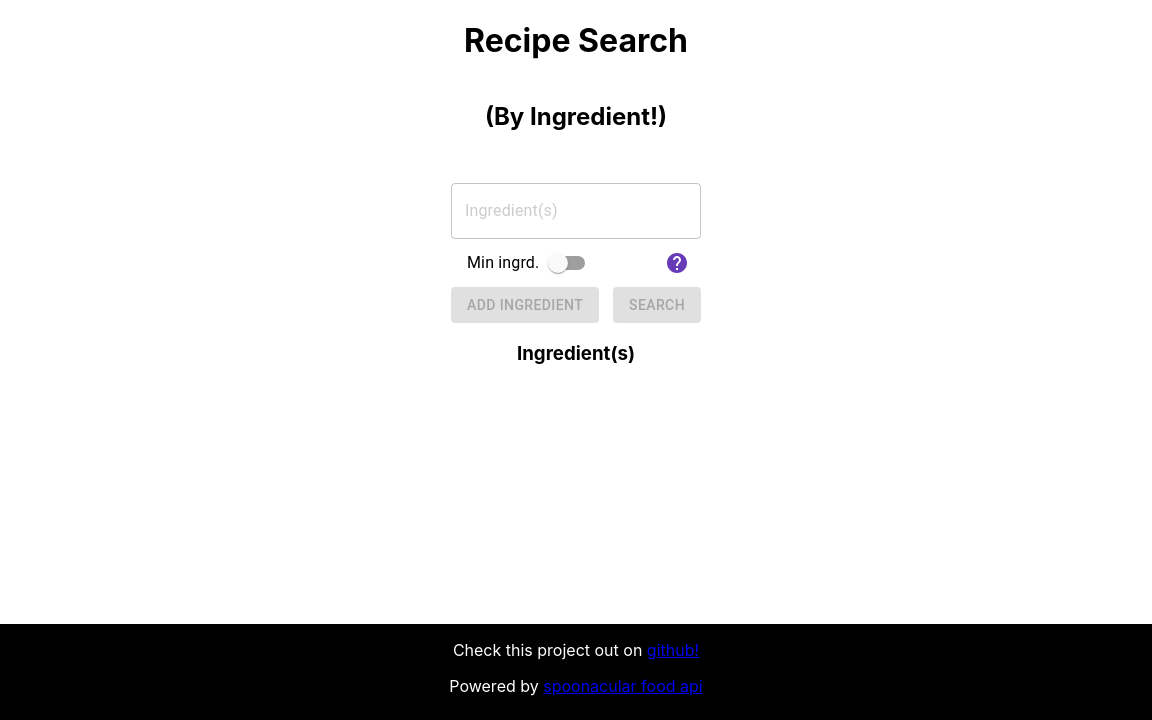
Test case: If text is not empty, add ingredient button is enabled
The image size is (1152, 720).
Type "new ingredient" into the field at [576, 211], box [451,183,701,239]
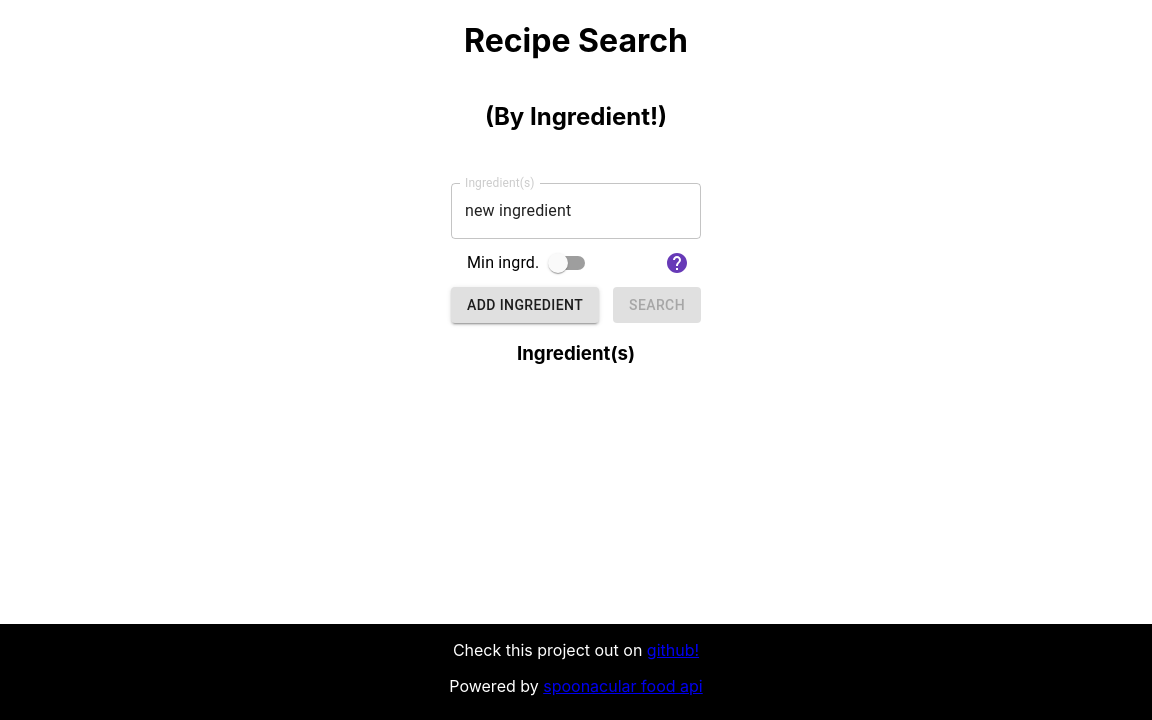
Expected: the button "Add Ingredient" is enabled, [451,287,599,323]
